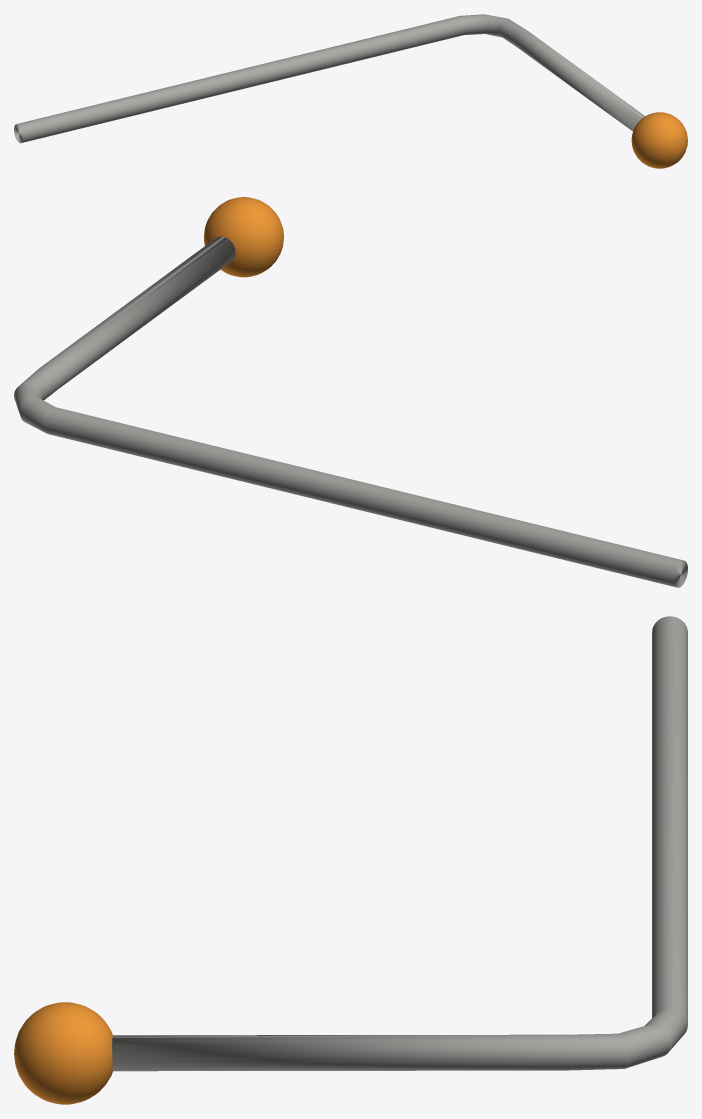
The model's file is manette.dae.
3 views of the same model, one above another, from view 1: azimuth 30°, elevation 25°; view 2: azimuth 150°, elevation 25°; view 3: azimuth 270°, elevation 25° (orthographic). The views are drawn at different scales.
Parts seen in each view (by area): view 1: Cylinder.018, Sphere.010; view 2: Cylinder.018, Sphere.010; view 3: Cylinder.018, Sphere.010.
Part boxes in pixels (bbox=[...]): Cylinder.018: bbox=[14, 14, 644, 143]; Sphere.010: bbox=[631, 112, 687, 168]; Cylinder.018: bbox=[14, 236, 687, 587]; Sphere.010: bbox=[204, 197, 283, 277]; Cylinder.018: bbox=[112, 616, 687, 1071]; Sphere.010: bbox=[14, 1002, 112, 1104].
Size of the model in its own units: 4.07 by 2.63 by 0.4.
